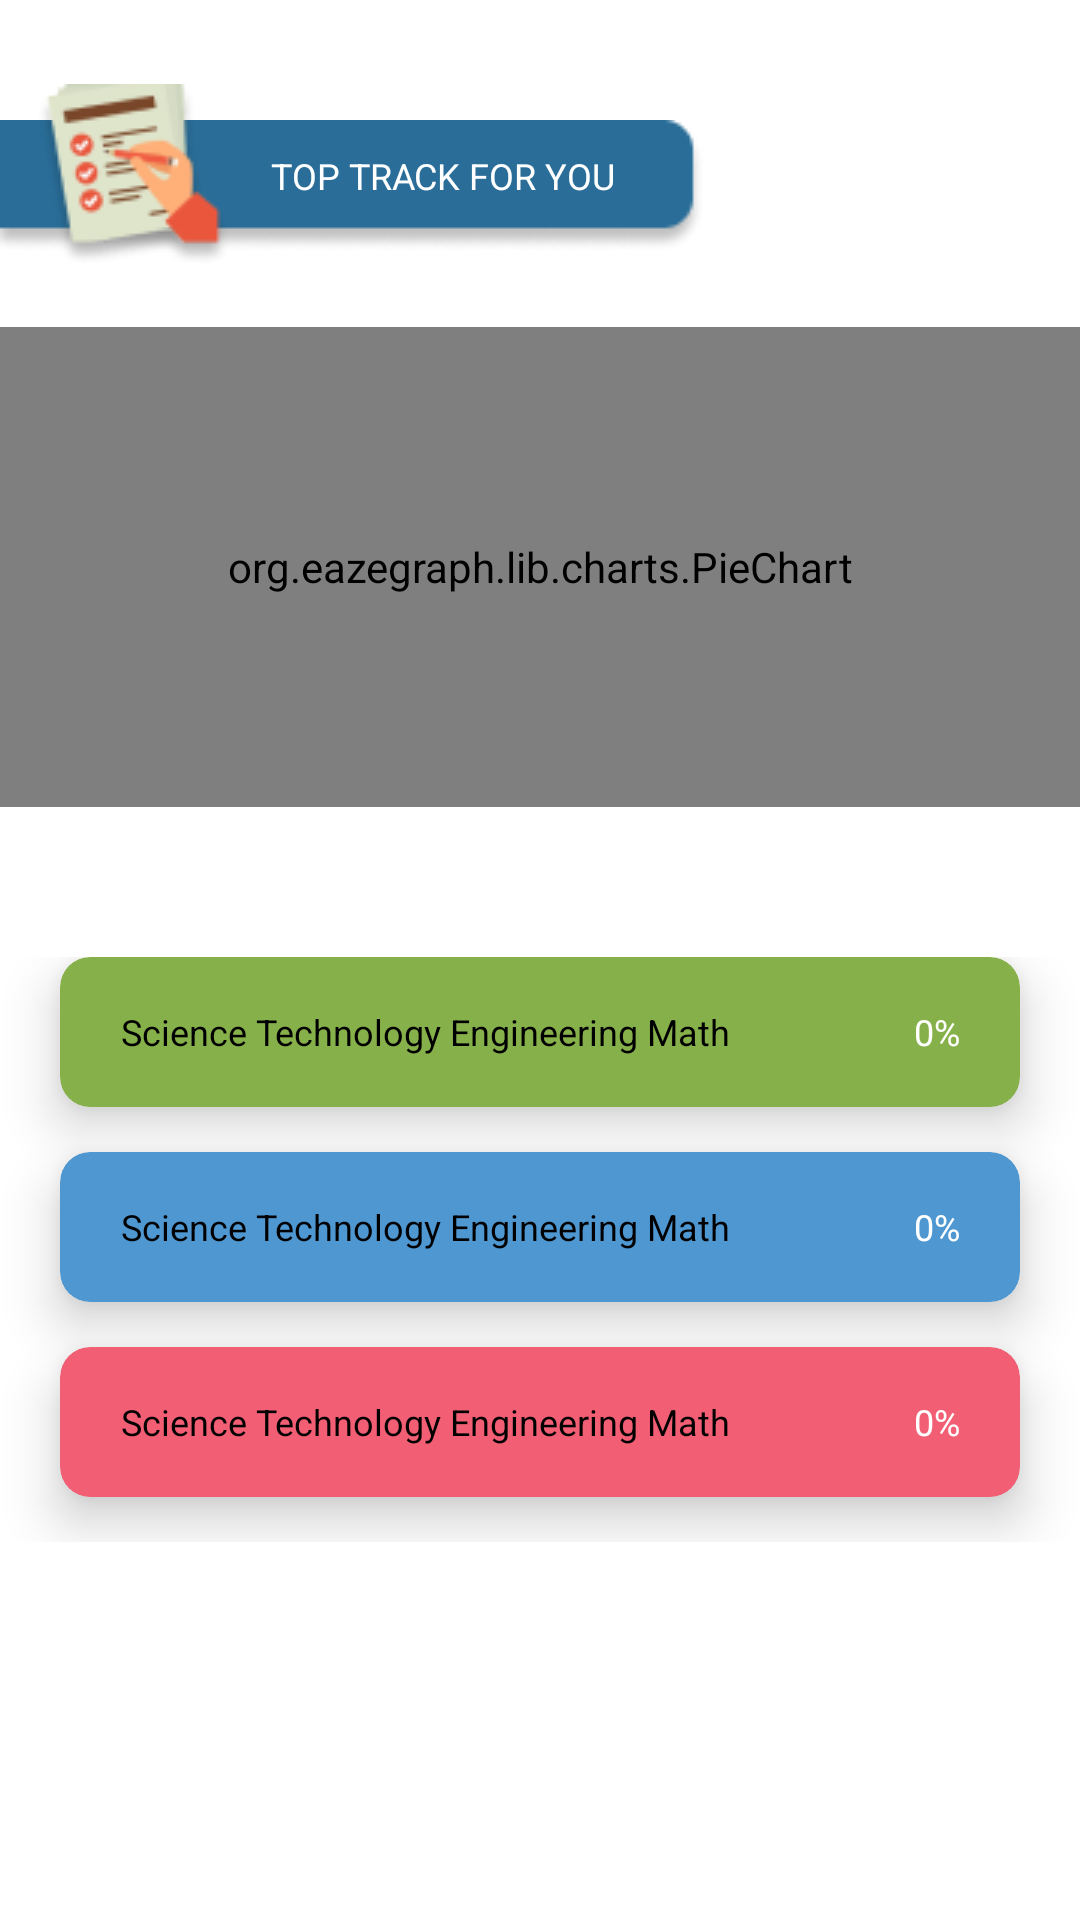

Screen size 1080×1920. Icon name, then its center in pixels as (x,y):
assessment: (135,170)
